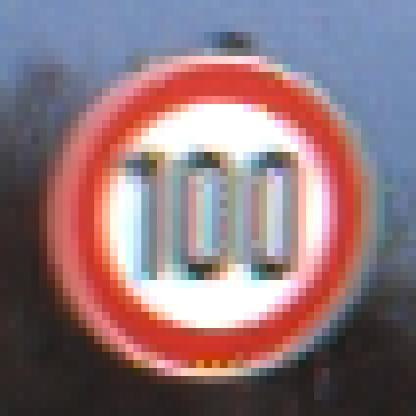Speed Limit -100-: (49, 38, 366, 380)
